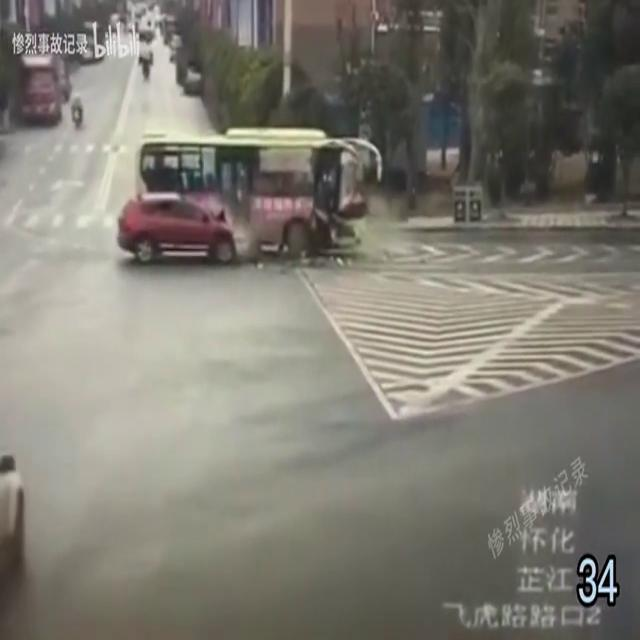multiple_accident: (80, 68, 418, 265)
